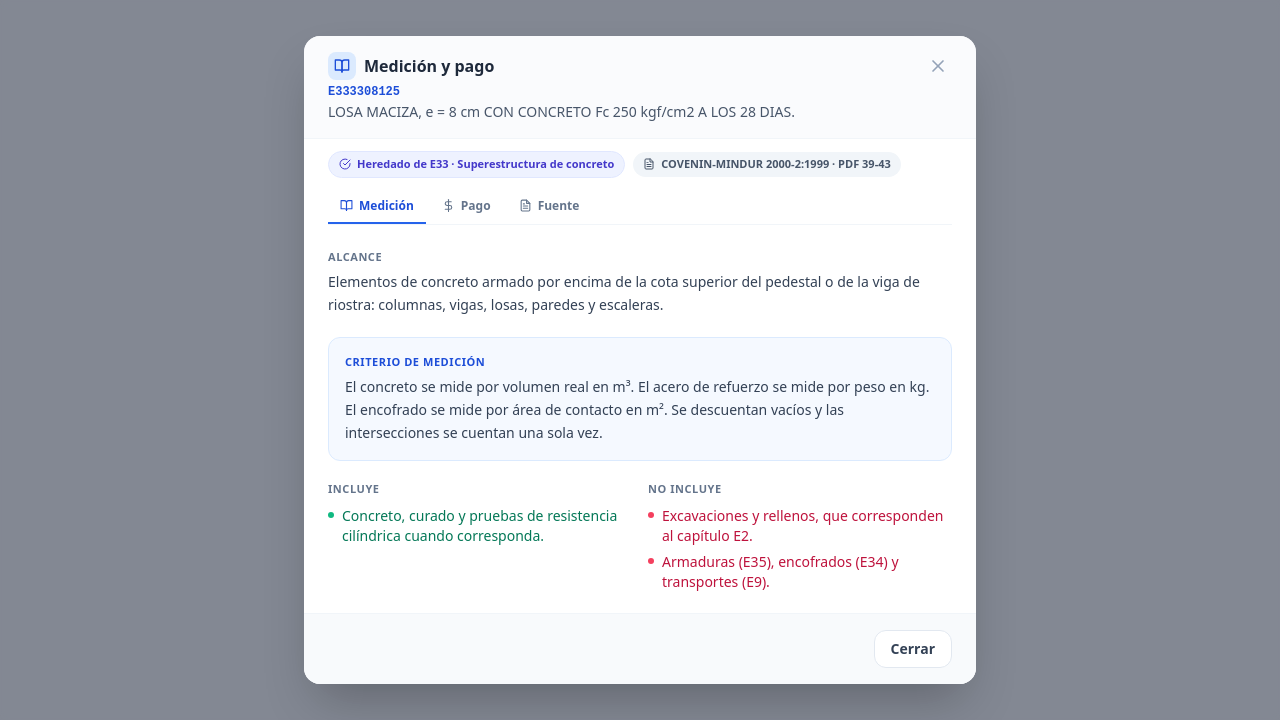
documentación de partida › muestra la medición y permite abrir la pestaña de pago
Expected: the heading "Medición y pago" is shown, 364,54 -> 494,78
Expected: the text "Heredado de E33 · Superestructura de concreto" is shown, 328,151 -> 625,178
Click the button "Pago" at [466, 206], box 430,190 -> 503,224
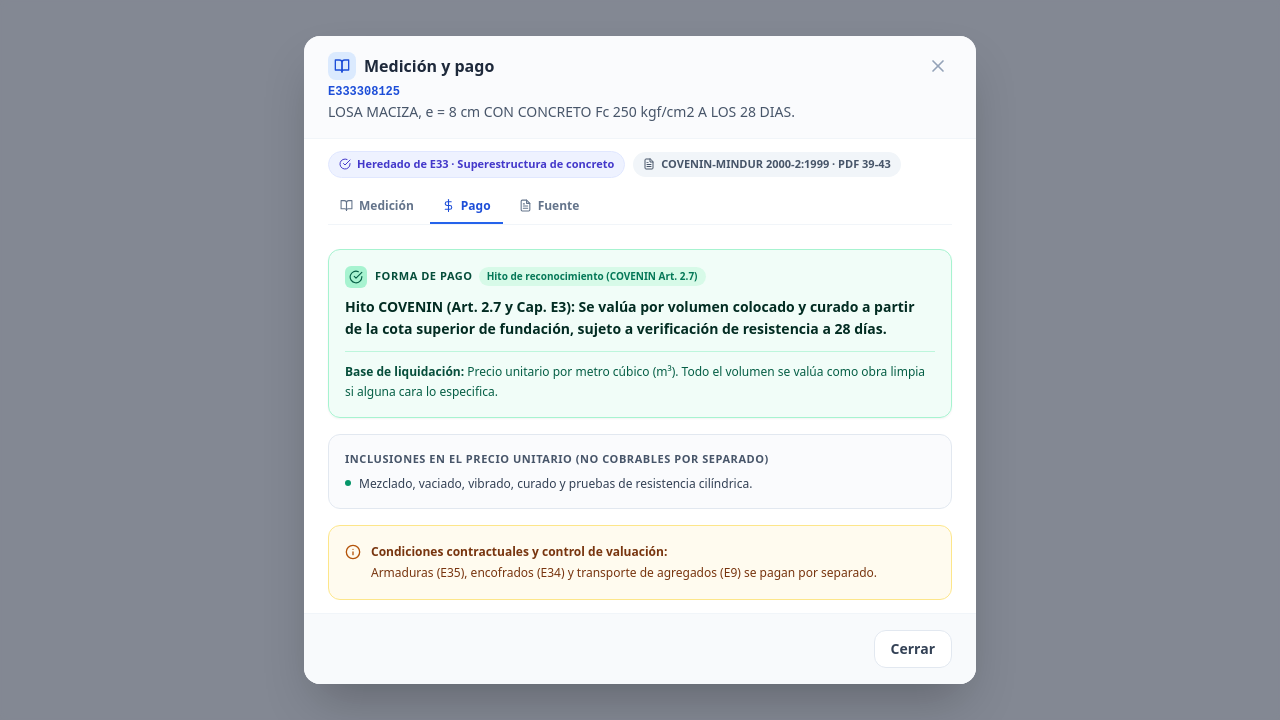
Expected: the text "Forma de pago" is shown, 375,268 -> 473,285
